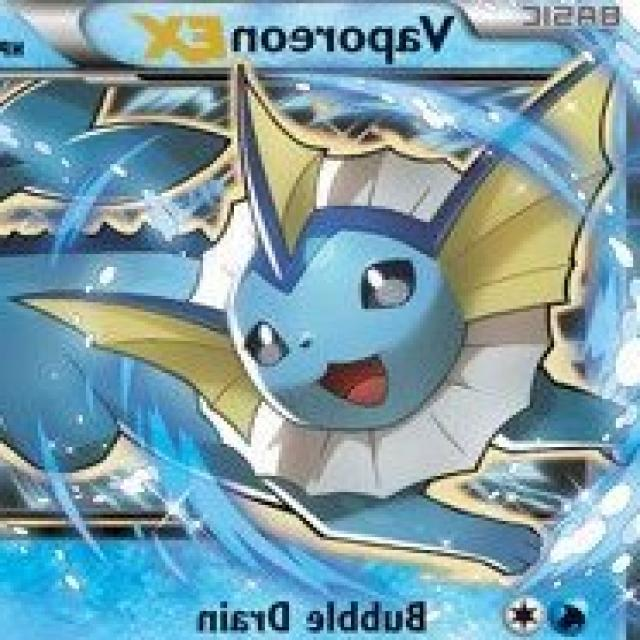Vaporeon: (121, 72, 593, 553)
